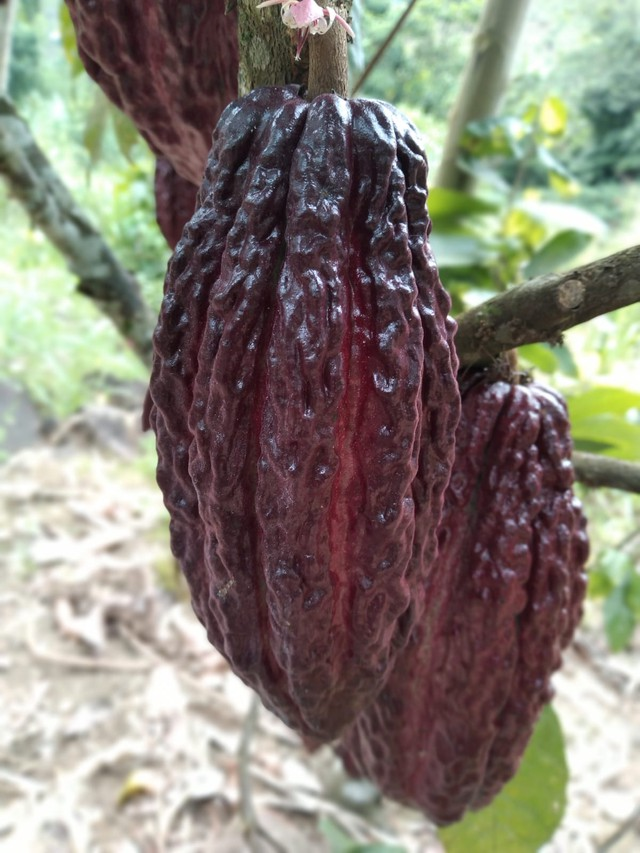Health: (119, 45, 479, 757)
